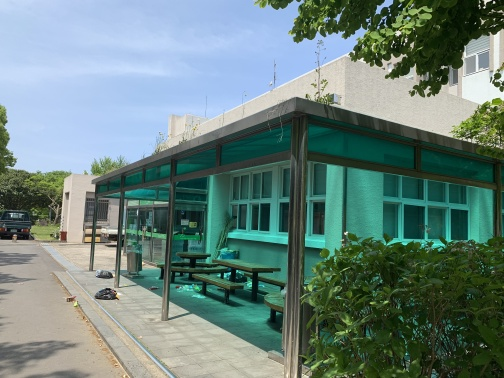Ara Hall: (89, 91, 504, 367)
